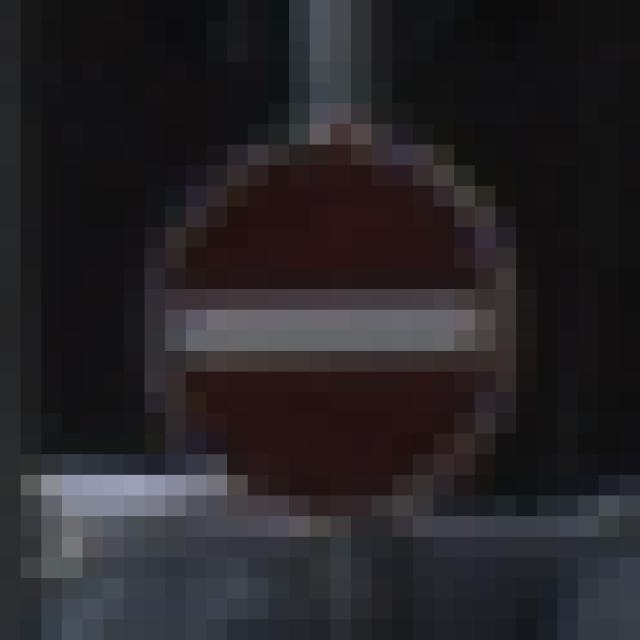No Entry: (125, 104, 538, 538)
